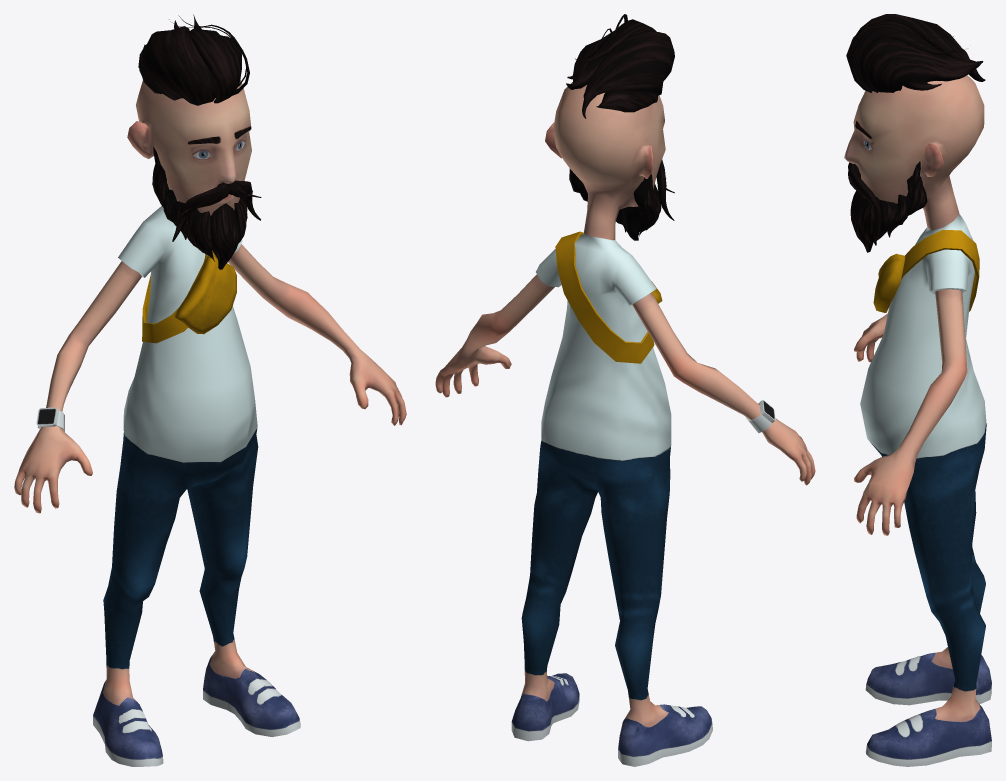
Rendered from Antuan_low3.fbx.
The picture shows the model from 3 angles, left to right: view 1: azimuth 30°, elevation 25°; view 2: azimuth 150°, elevation 25°; view 3: azimuth 270°, elevation 25°; orthographic projection. The views are drawn at different scales.
Parts seen in each view (by area): view 1: Body_low.001, Gurt_low; view 2: Body_low.001, Gurt_low; view 3: Body_low.001, Gurt_low.
Boxes of the visible parts, x1=… form: Body_low.001: x1=14, y1=14, x2=406, y2=766; Gurt_low: x1=142, y1=250, x2=236, y2=343; Body_low.001: x1=435, y1=14, x2=815, y2=766; Gurt_low: x1=555, y1=231, x2=662, y2=363; Body_low.001: x1=844, y1=14, x2=991, y2=766; Gurt_low: x1=873, y1=230, x2=979, y2=312.
Bounding box in the file's own units: 13262 × 23894 × 4550.
